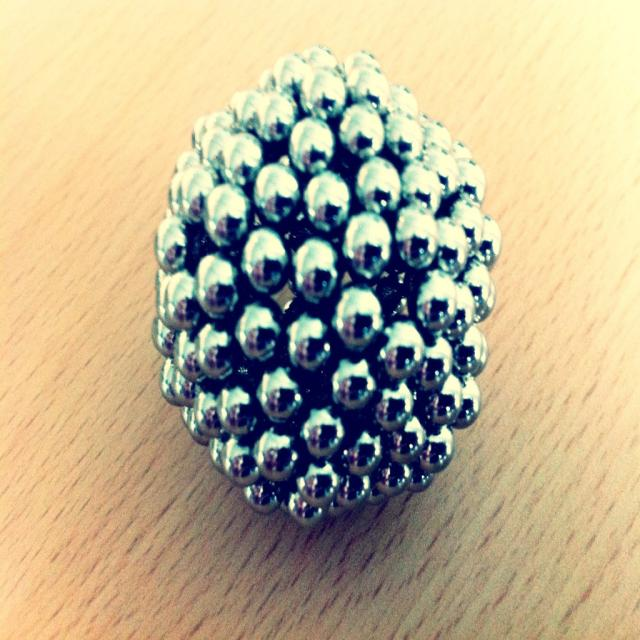Ball: (152, 45, 501, 523)
